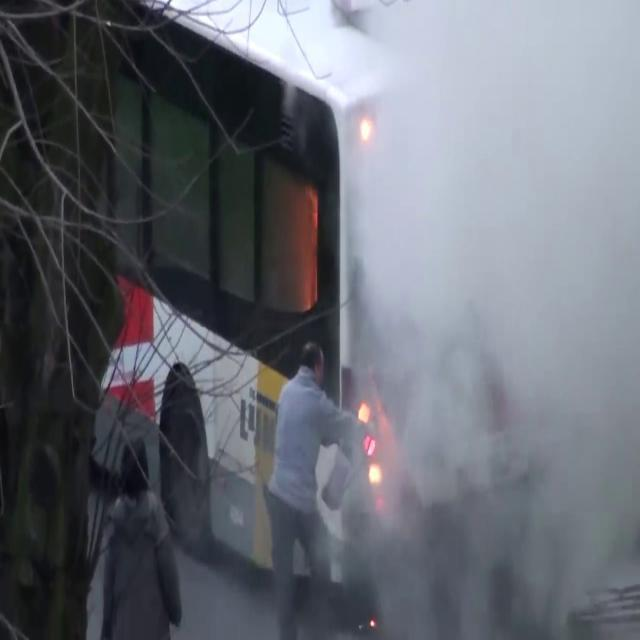Smoke: (344, 0, 640, 632)
